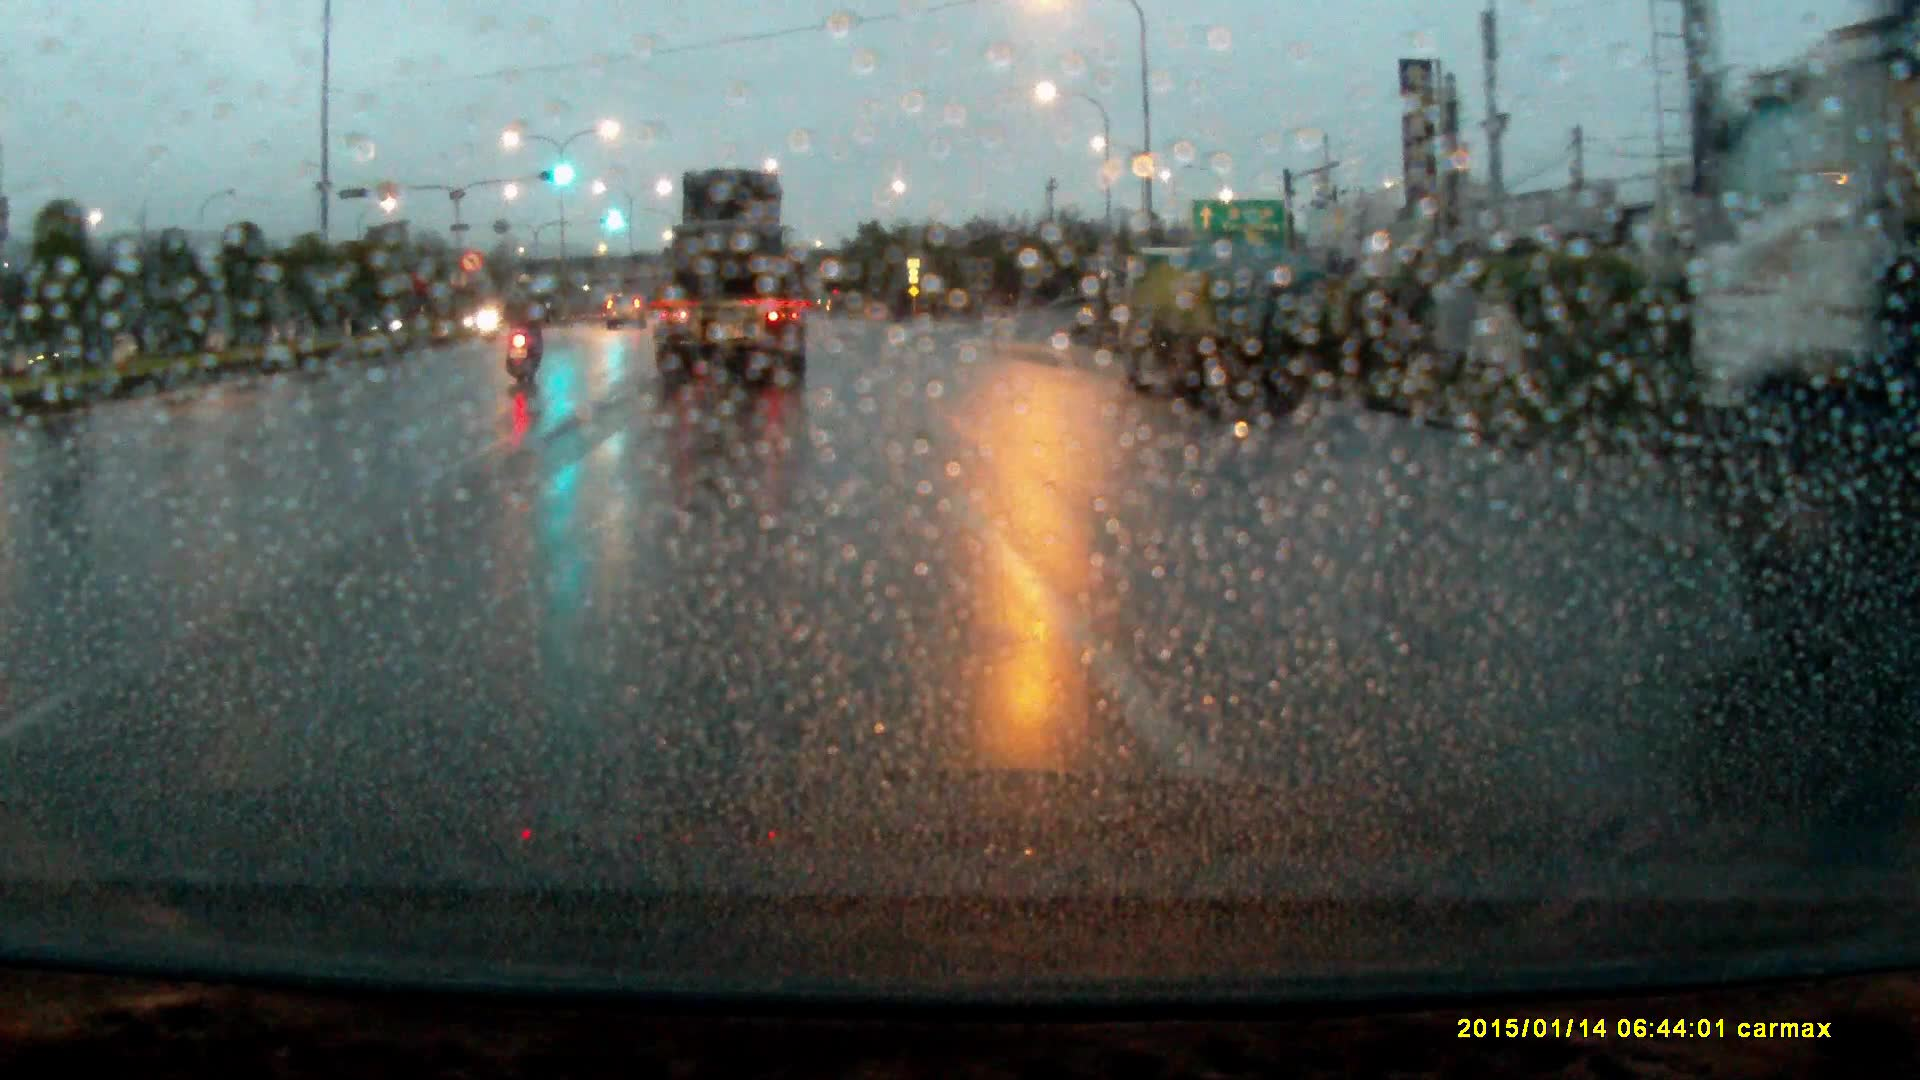rider: (502, 272, 552, 387)
vehicle: (1689, 3, 1920, 586), (1108, 246, 1343, 416), (651, 168, 812, 396), (605, 294, 646, 332)
